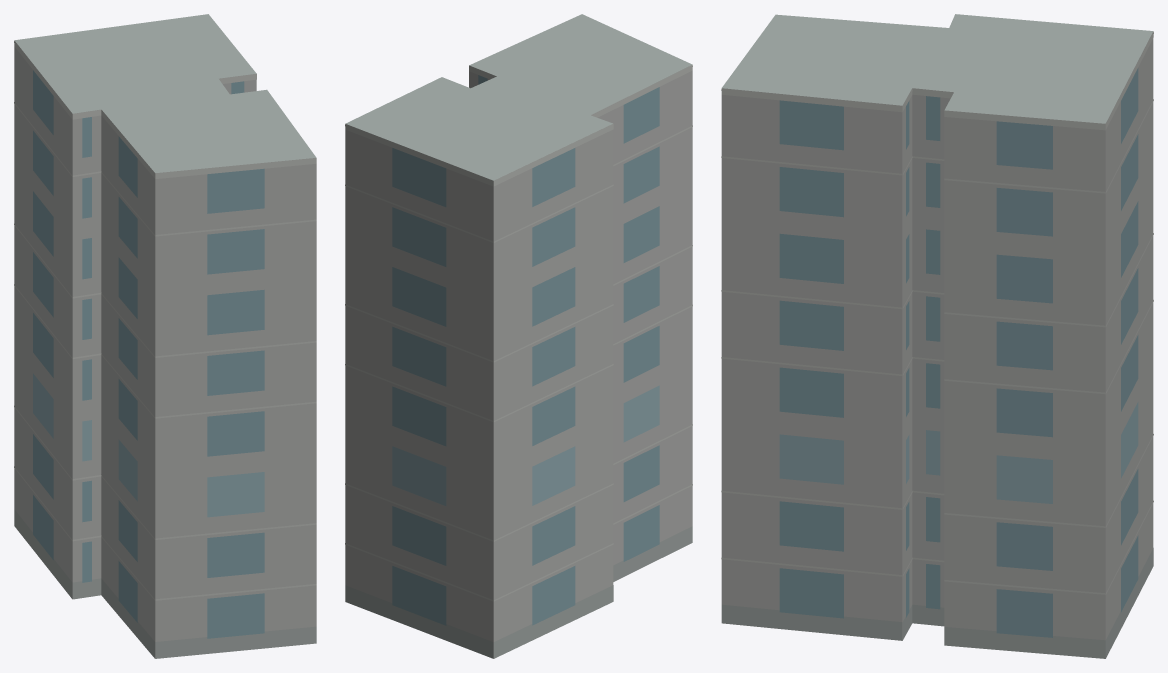
File: survey-upis-32820913.glb
The picture shows the model from 3 angles, left to right: view 1: azimuth 30°, elevation 25°; view 2: azimuth 150°, elevation 25°; view 3: azimuth 270°, elevation 25°; orthographic projection. The views are drawn at different scales.
Visible parts, largest first — view 1: survey-upis-32820913.tmp; view 2: survey-upis-32820913.tmp; view 3: survey-upis-32820913.tmp.
Boxes of the visible parts, box(x1,y1,x2,y2) form: survey-upis-32820913.tmp: box(14, 14, 316, 658); survey-upis-32820913.tmp: box(345, 14, 692, 658); survey-upis-32820913.tmp: box(721, 14, 1153, 658).
Bounding box in the file's own units: 8.78 × 19.9 × 14.58.
